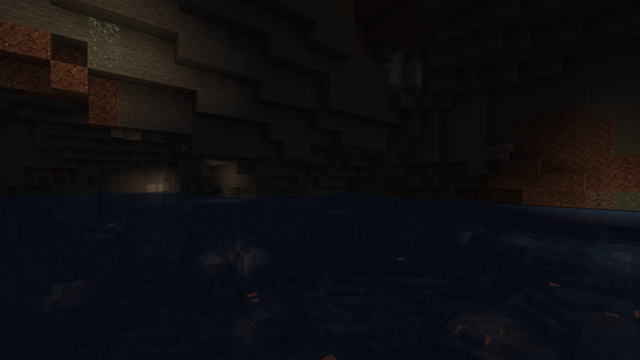cochons: (489, 145, 508, 160)
